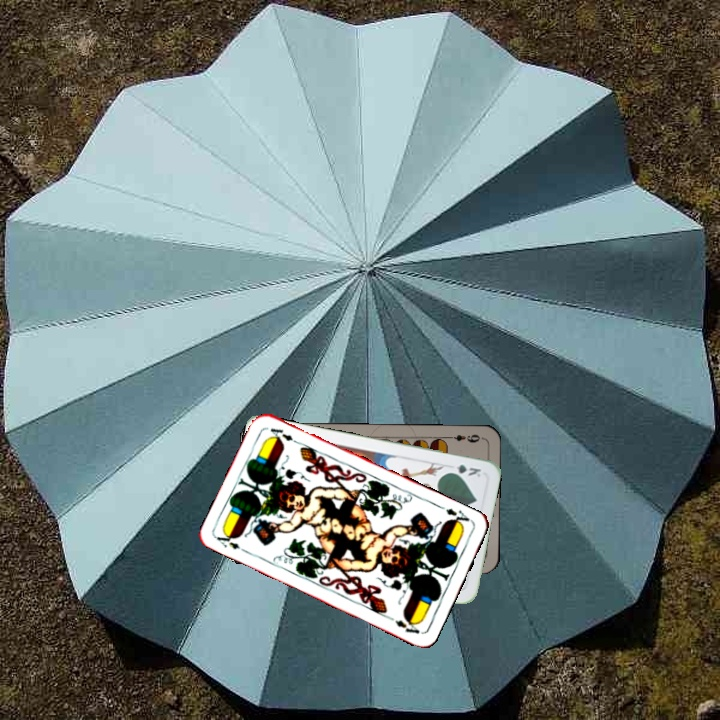E9: (444, 430, 482, 445)
EA: (212, 528, 251, 556), (436, 502, 474, 529)
GK: (444, 460, 483, 479)
